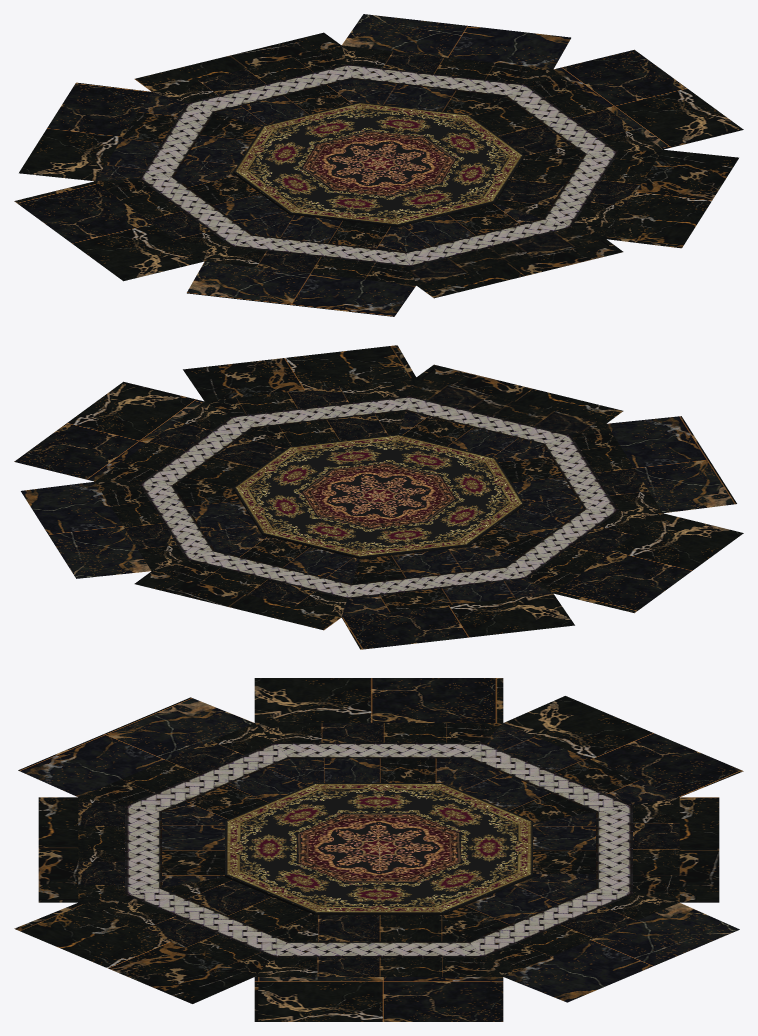
The model's file is Floor1.fbx.
The picture shows the model from 3 angles, top to bottom: view 1: azimuth 30°, elevation 25°; view 2: azimuth 150°, elevation 25°; view 3: azimuth 270°, elevation 25°; orthographic projection. The views are drawn at different scales.
Parts seen in each view (by area): view 1: GothFloor; view 2: GothFloor; view 3: GothFloor.
Part boxes in pixels (x1,y1,x2,y2): GothFloor: (14, 14, 743, 316); GothFloor: (14, 345, 743, 649); GothFloor: (14, 678, 743, 1021).
Size of the model in its own units: 1407 by 3.78 by 1262.
